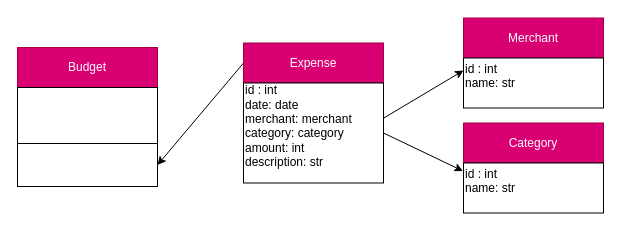
The diagram is 621 pixels wide and 230 high, and some of its shapes have lost their labels. The shapes that lost their labels are listed below. From the top down, each one's centre as x and y in pixels, then its label:
At [87,115]: "id : int total_budget: int periodicity: str".
At [87,164]: "budget_status(): int budget_alert(): str".
